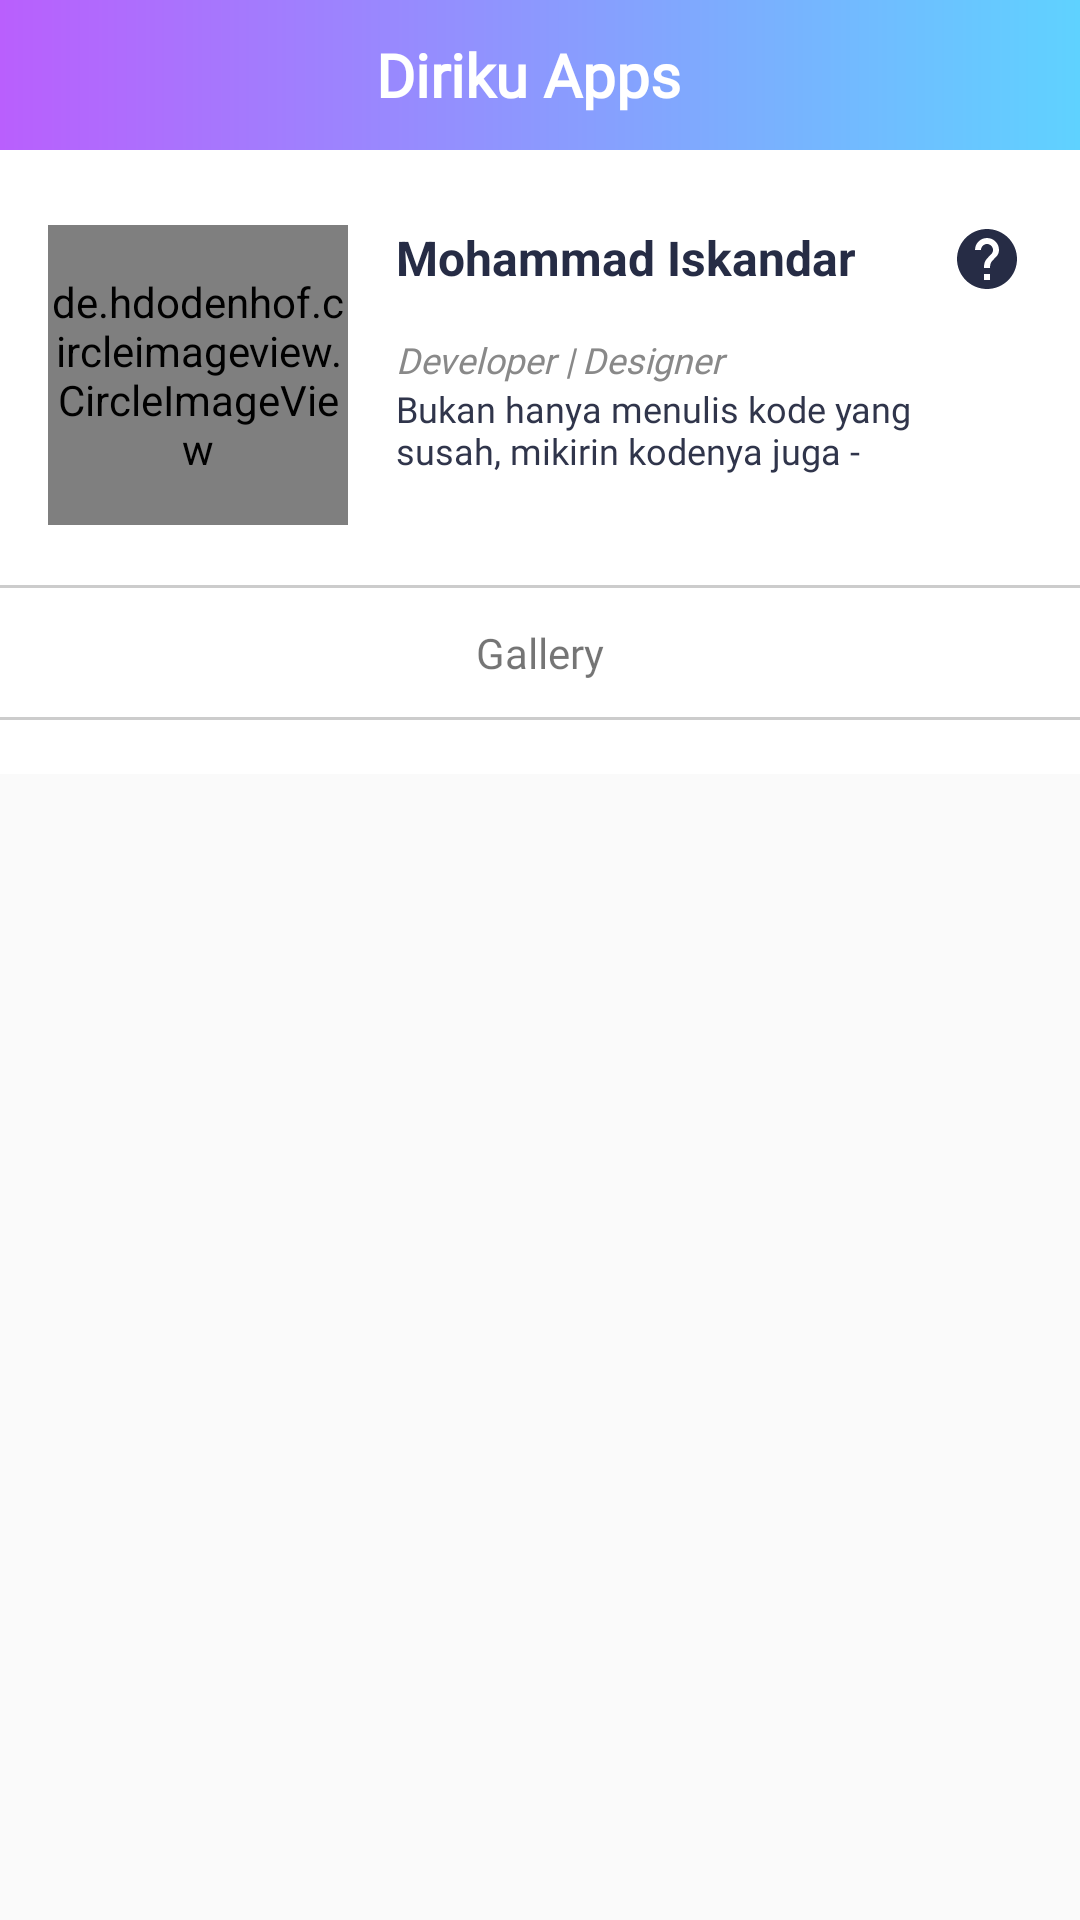

Icon bounding boxes for this 1080*1920 phone screenshot, format {"left": x1, "top": y1, "right": x2, "bottom": y2}:
help: {"left": 957, "top": 229, "right": 1017, "bottom": 289}
